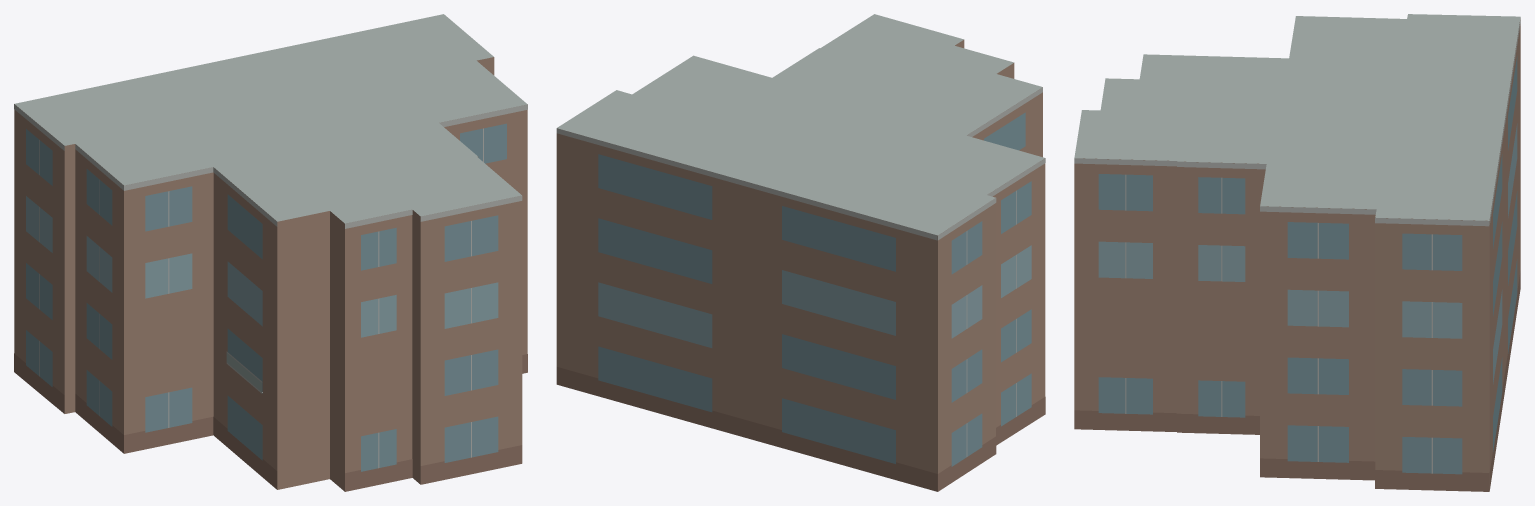
The model's file is survey-upis-32783042.glb.
The picture shows the model from 3 angles, left to right: view 1: azimuth 30°, elevation 25°; view 2: azimuth 150°, elevation 25°; view 3: azimuth 270°, elevation 25°; orthographic projection. The views are drawn at different scales.
Parts seen in each view (by area): view 1: survey-upis-32783042.tmp; view 2: survey-upis-32783042.tmp; view 3: survey-upis-32783042.tmp.
Boxes of the visible parts, x1,y1,x2,y2 form: survey-upis-32783042.tmp: (14,14,527,491); survey-upis-32783042.tmp: (556,14,1045,491); survey-upis-32783042.tmp: (1074,14,1520,491).
Size of the model in its own units: 19.97 by 12.2 by 18.22.
